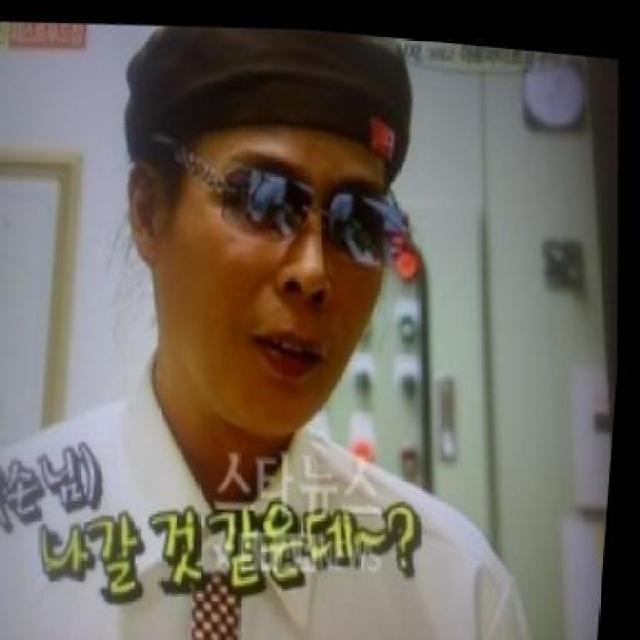hat: (114, 9, 428, 211)
